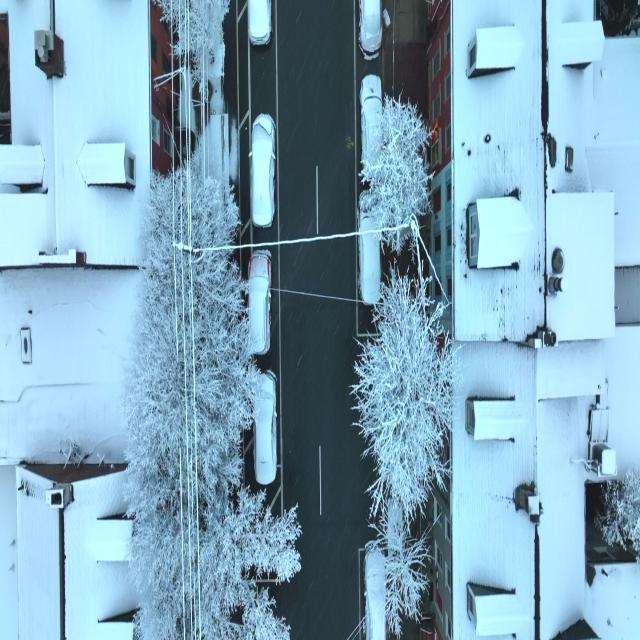Car: (246, 107, 277, 237), (250, 367, 282, 481), (245, 246, 273, 362)
